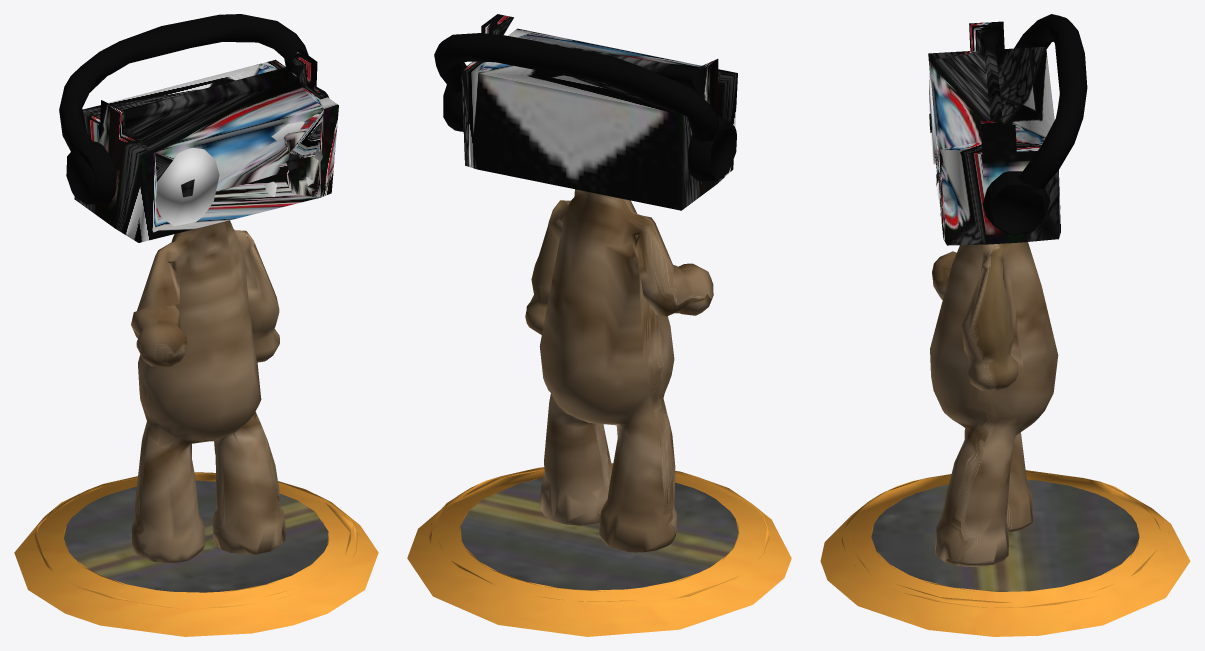
The picture shows the model from 3 angles, left to right: view 1: azimuth 30°, elevation 25°; view 2: azimuth 150°, elevation 25°; view 3: azimuth 270°, elevation 25°; orthographic projection. The views are drawn at different scales.
Bounding box in the file's own units: 1.44 × 2.21 × 1.45.
Materials: 7 (4 with a texture image).
